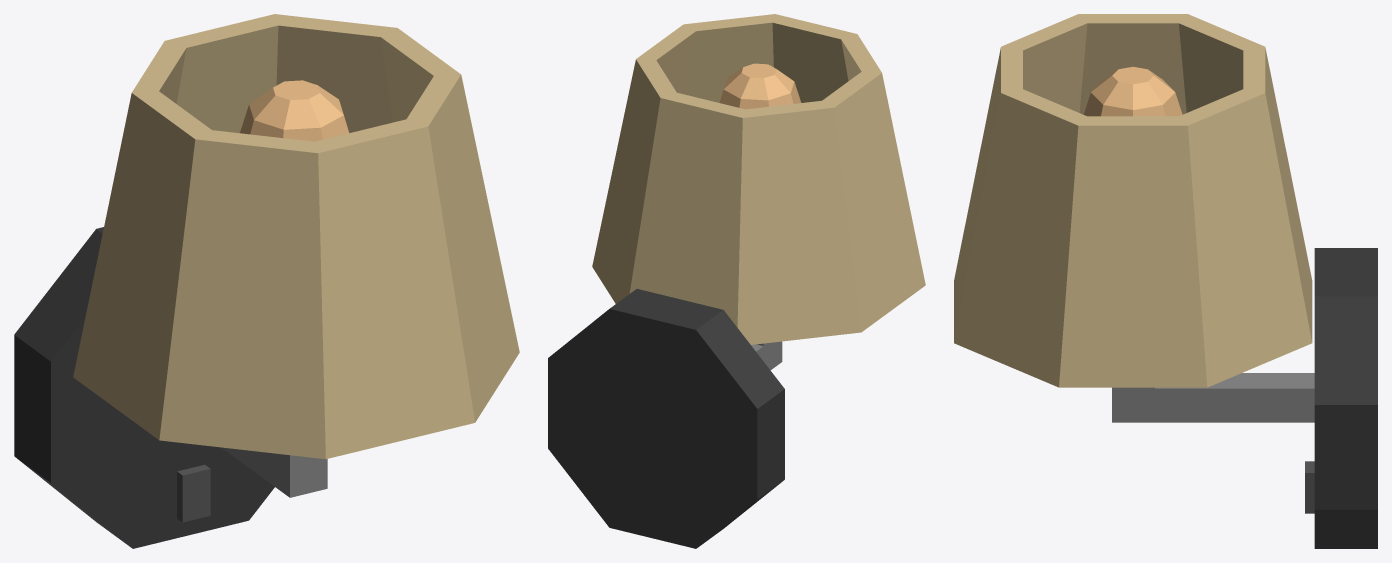
File: Light_10.fbx
3 renders of one model, left to right at view 1: azimuth 30°, elevation 25°; view 2: azimuth 150°, elevation 25°; view 3: azimuth 270°, elevation 25°, orthographic. The views are drawn at different scales.
Parts seen in each view (by area): view 1: Light_10; view 2: Light_10; view 3: Light_10.
Boxes of the visible parts, x1,y1,x2,y2 form: Light_10: [14, 14, 519, 548]; Light_10: [548, 14, 925, 548]; Light_10: [954, 14, 1377, 548].
Bounding box in the file's own units: 18.31 × 25.65 × 21.67.
